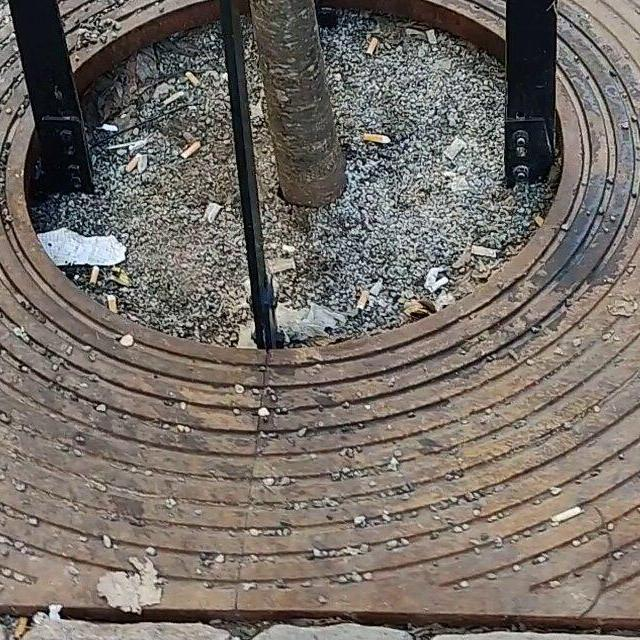Cigarette Butt: (363, 133, 392, 145), (356, 288, 369, 314), (106, 291, 119, 314), (180, 144, 201, 158), (88, 266, 100, 289), (124, 154, 138, 173), (368, 37, 377, 58), (185, 69, 196, 86)
